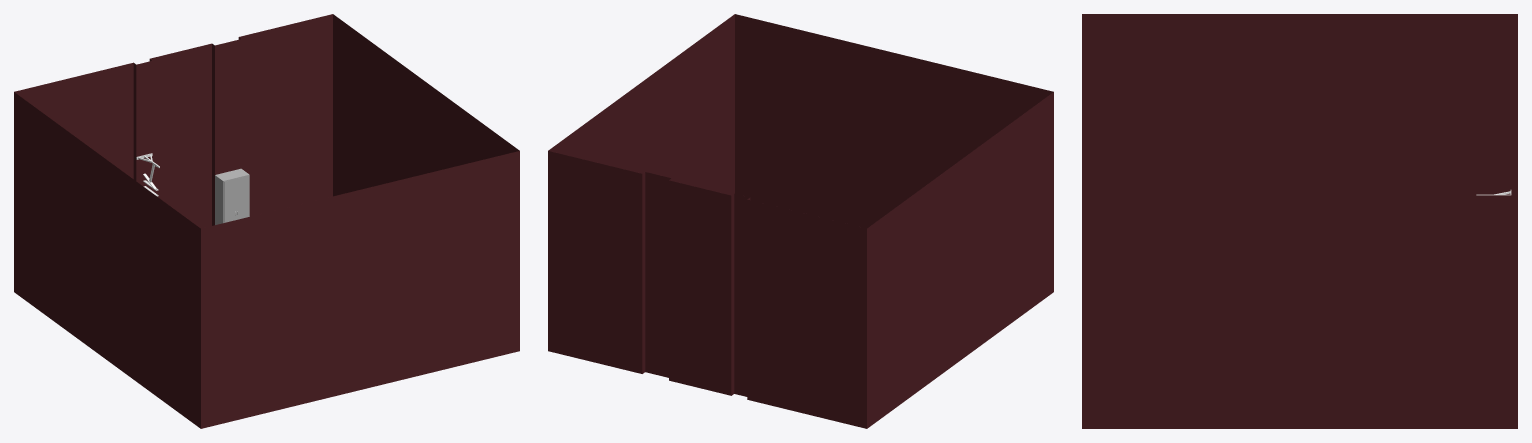
The model's file is Laboratorio.obj.
The picture shows the model from 3 angles, left to right: view 1: azimuth 30°, elevation 25°; view 2: azimuth 150°, elevation 25°; view 3: azimuth 270°, elevation 25°; orthographic projection. The views are drawn at different scales.
Visible parts, largest first — view 1: Sólido1, Sólido1:4; view 2: Sólido1; view 3: Sólido1.
Part boxes in pixels (box(x1,y1,x2,y2)): Sólido1: box(14, 14, 519, 428); Sólido1:4: box(215, 168, 249, 224); Sólido1: box(548, 14, 1053, 428); Sólido1: box(1082, 14, 1517, 428).
Bounding box in the file's own units: 10002 × 6001 × 10152.
